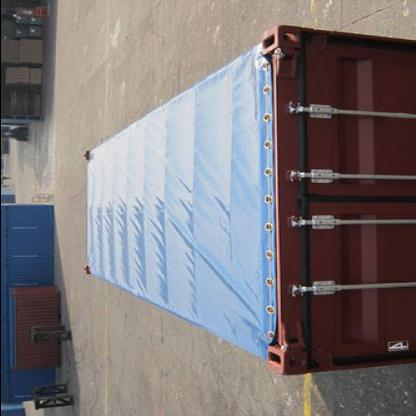Damage: (274, 321, 328, 377), (270, 26, 324, 78), (290, 184, 312, 214)
